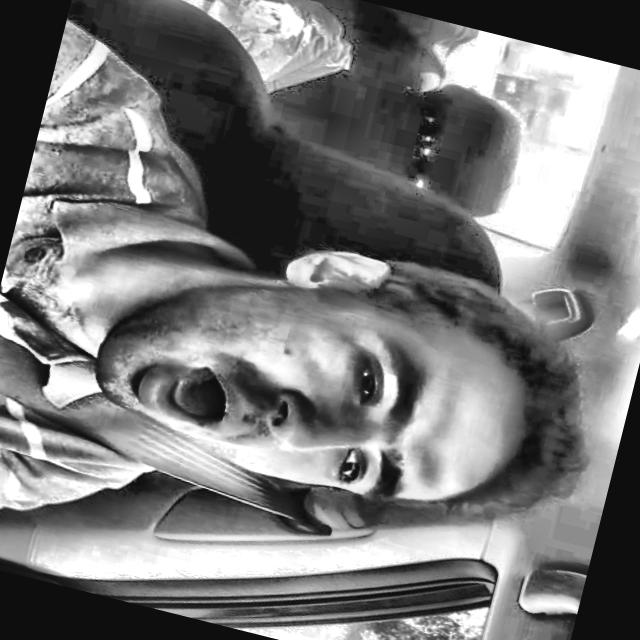open_eyes: (328, 341, 392, 416), (319, 437, 372, 499)
open_mouth: (128, 345, 244, 449)
